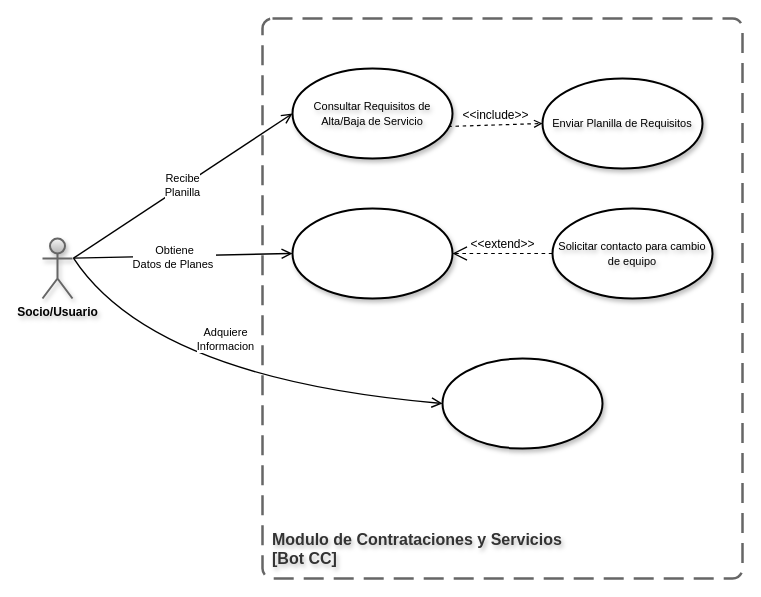
Image size: 761x597. Some labels were removed from this diagram. Each missing label, with the centre of its shape:
"Consultar contratacion de Packs(Sensa o Futbol)" goes at (x=523, y=404).
"Consultar Planes de Internet y Combos" goes at (x=373, y=254).
